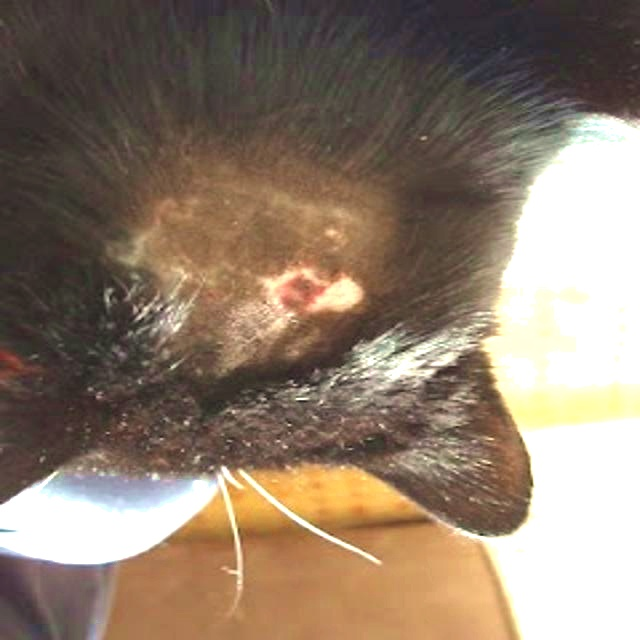ringworm: (267, 262, 373, 325)
